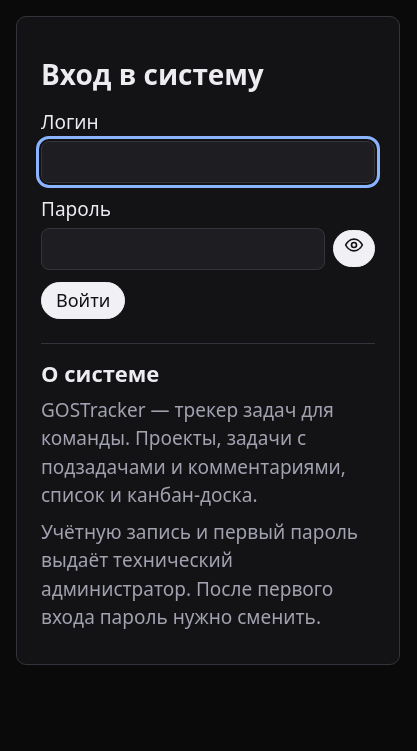
Test case: LoginPage (T23) › error_429_too_many_requests_is_shown_via_dictionary_without_raw_json
Type "ivanov" into the field labelled "Логин" at (208, 162), box [41, 140, 375, 183]
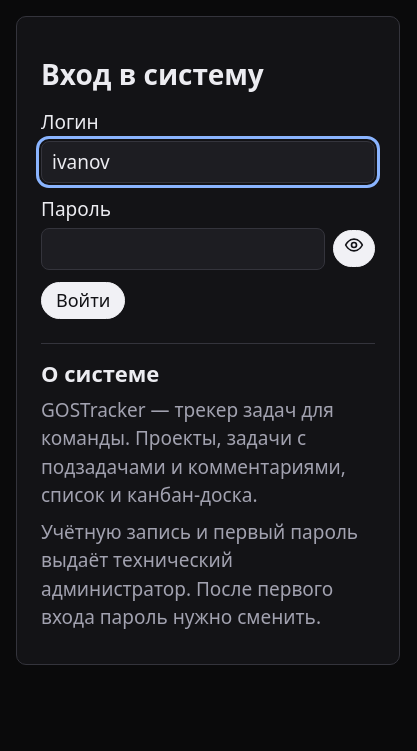
Type "Correct-Horse-Battery-9" into the password field labelled "Пароль" at (183, 249), box [41, 228, 325, 270]
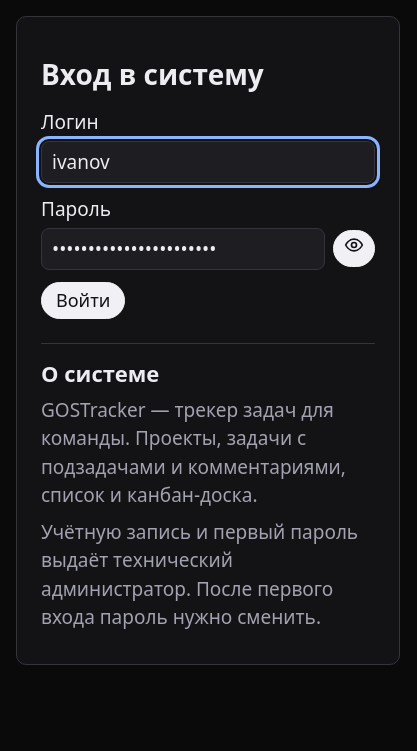
Click the submit button at (83, 300), box [41, 282, 125, 319]
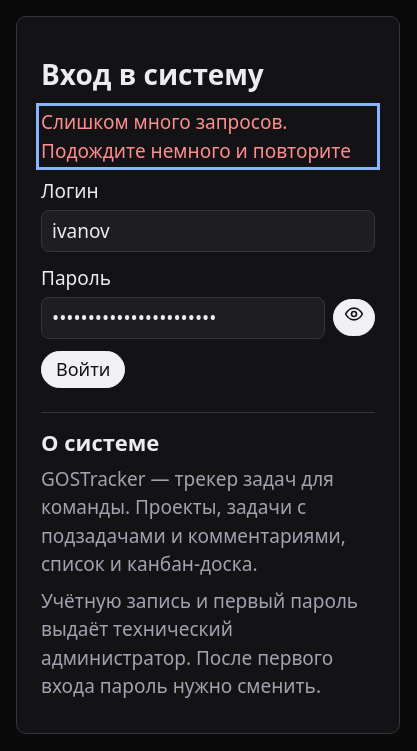
Expected: the message reads "Слишком много запросов. Подождите немного и повторите", [41, 109, 351, 164]
